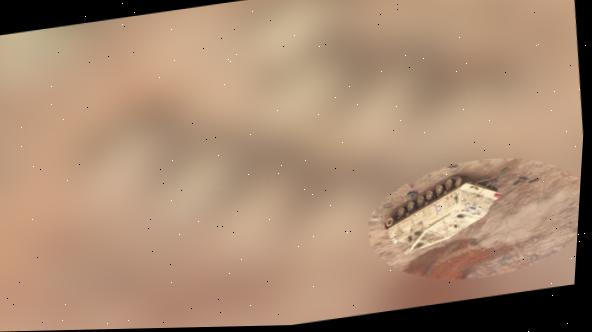armored_car: (377, 166, 512, 255)
